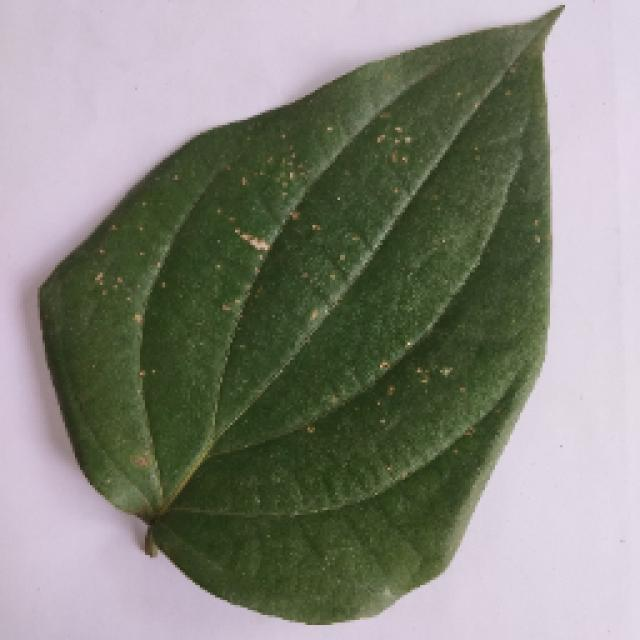pollu-disease: (40, 10, 560, 620)
